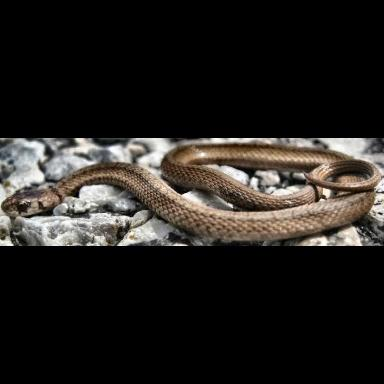snake: (2, 144, 381, 241)
